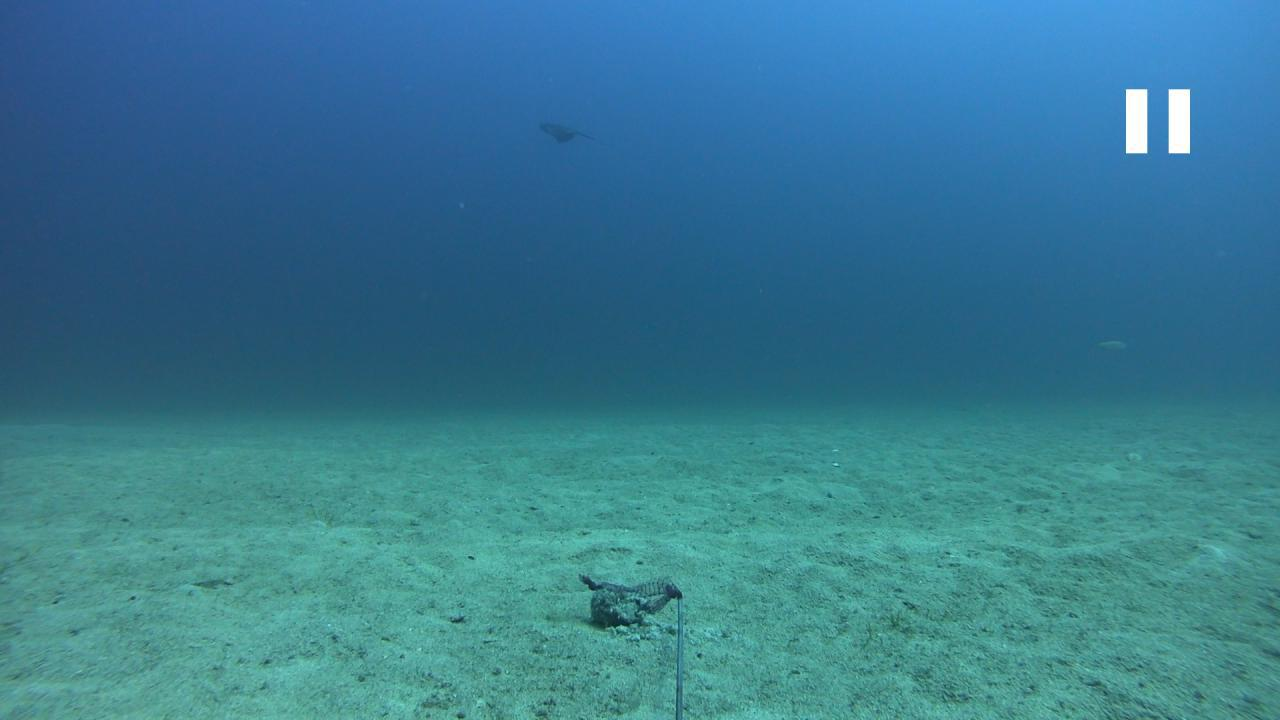dasyatis: (535, 118, 600, 144)
